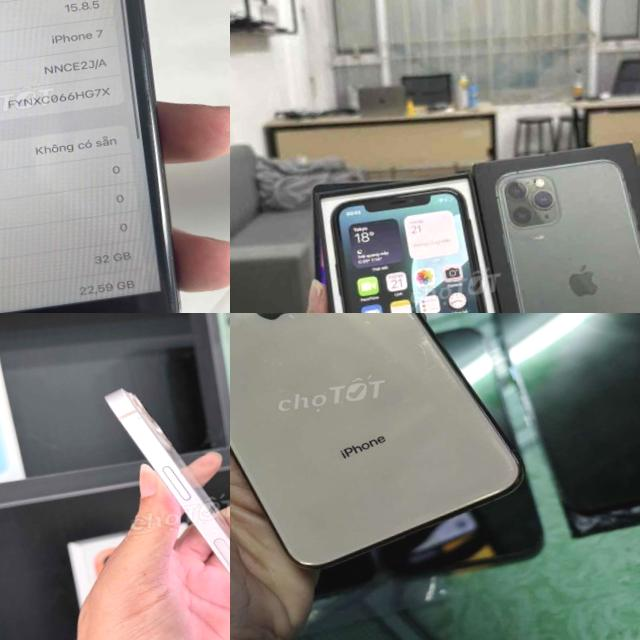gen_11: (322, 180, 513, 313)
gen_12_13: (88, 356, 230, 640)
gen_6: (0, 0, 195, 313)
gen_x_xs: (230, 313, 565, 594)
scratch: (131, 24, 160, 130), (404, 328, 450, 361), (158, 259, 184, 313), (343, 313, 393, 337), (265, 313, 317, 333)
